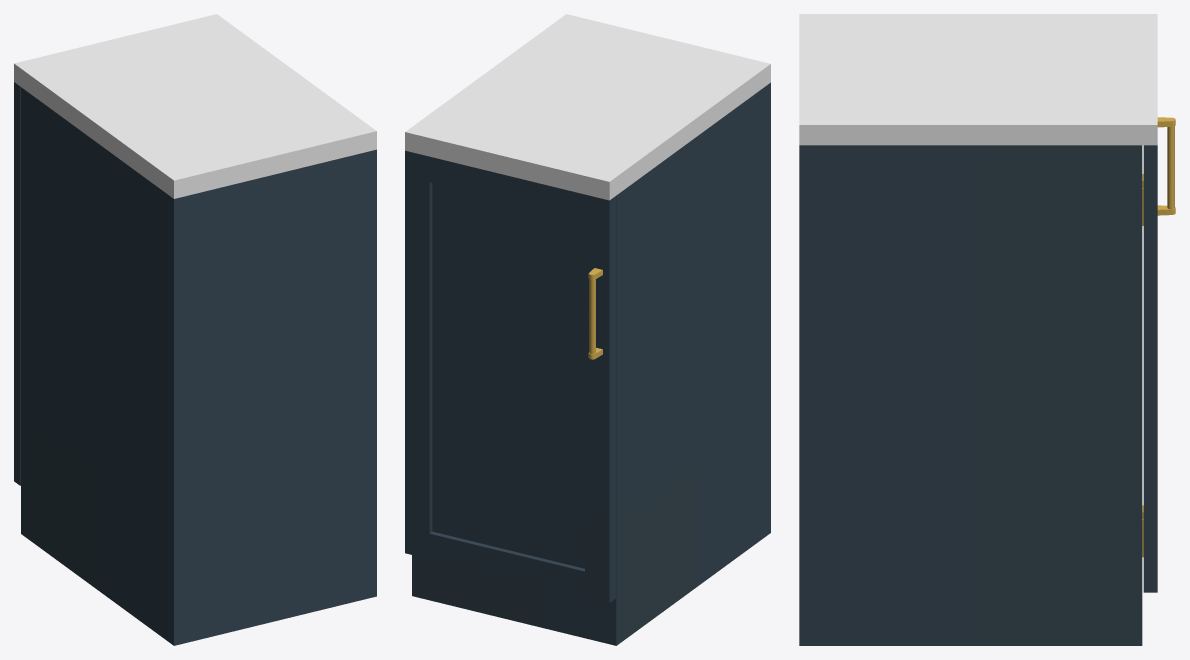
Rendered from CabinetA02.glb.
The picture shows the model from 3 angles, left to right: view 1: azimuth 30°, elevation 25°; view 2: azimuth 150°, elevation 25°; view 3: azimuth 270°, elevation 25°; orthographic projection. The views are drawn at different scales.
Parts seen in each view (by area): view 1: CabinetA02_model, CabinetA02Door; view 2: CabinetA02_model, CabinetA02Door; view 3: CabinetA02_model, CabinetA02Door.
Boxes of the visible parts, bbox=[...] form: CabinetA02_model: bbox=[14, 14, 376, 645]; CabinetA02Door: bbox=[14, 82, 20, 485]; CabinetA02_model: bbox=[405, 14, 770, 645]; CabinetA02Door: bbox=[405, 150, 615, 602]; CabinetA02_model: bbox=[799, 14, 1157, 645]; CabinetA02Door: bbox=[1142, 117, 1175, 592].
Size of the model in its own units: 0.9256 by 2.02 by 1.32.
Materials: 1 (1 with a texture image).
